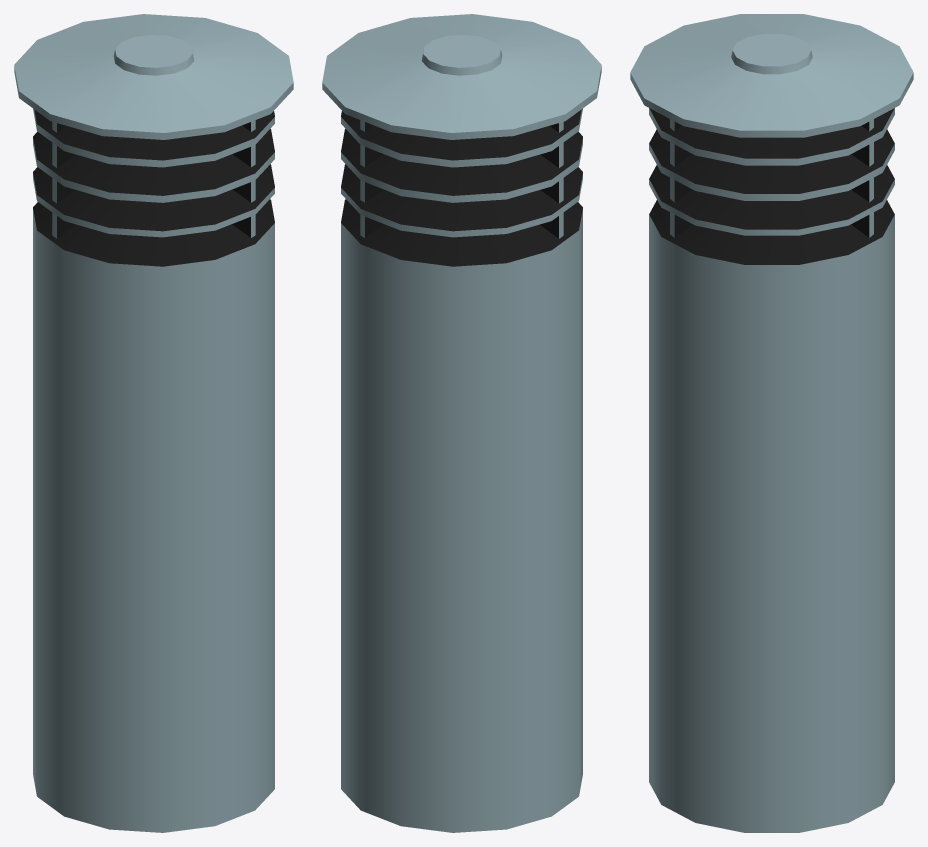
File: chimenea_3.fbx
3 views of the same model, side by side, from view 1: azimuth 30°, elevation 25°; view 2: azimuth 150°, elevation 25°; view 3: azimuth 270°, elevation 25° (orthographic).
Visible parts, largest first — view 1: chimenea_3; view 2: chimenea_3; view 3: chimenea_3.
Boxes of the visible parts, x1,y1,x2,y2 form: chimenea_3: [14, 14, 293, 832]; chimenea_3: [322, 14, 601, 832]; chimenea_3: [630, 14, 913, 832].
Size of the model in its own units: 31.49 by 92.06 by 32.3.
